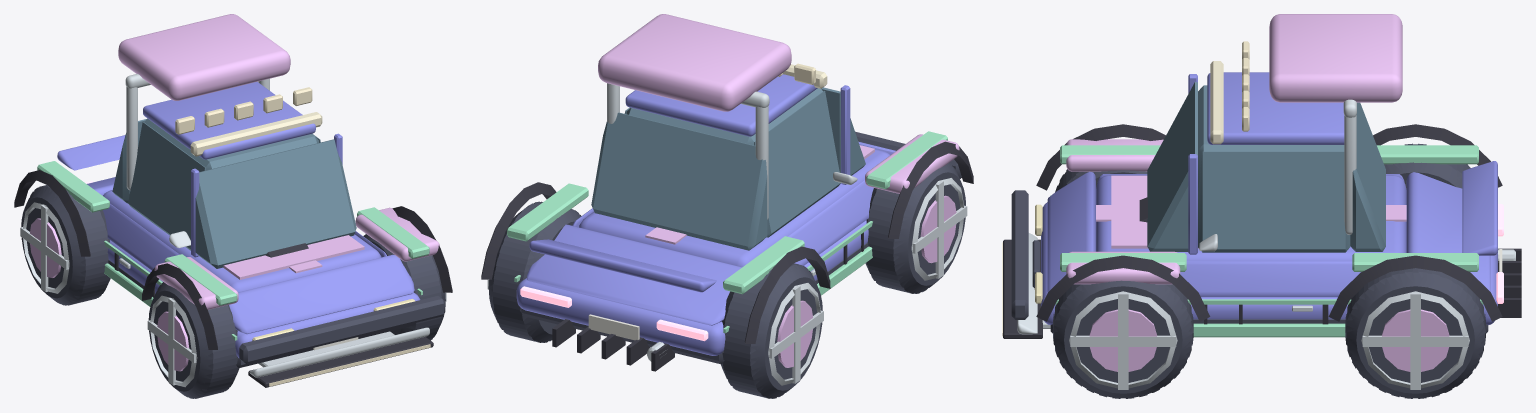
The model's file is wildpath_wagon.fbx.
The picture shows the model from 3 angles, left to right: view 1: azimuth 30°, elevation 25°; view 2: azimuth 150°, elevation 25°; view 3: azimuth 270°, elevation 25°; orthographic projection. The views are drawn at different scales.
Parts seen in each view (by area): view 1: Body, Glass, Accent3, Trim, Wheel_RR, Trim2, Wheel_FR, Metal, Accent, Accent2, Light, Wheel_FL (+2 smaller); view 2: Body, Glass, Accent3, Trim, Wheel_RR, Accent, Wheel_FR, Metal, Wheel_RL, Metal2, Accent2, Trim2 (+3 smaller); view 3: Body, Glass, Accent3, Trim, Wheel_RL, Accent, Wheel_FL, Metal, Metal2, Trim2, Accent2, Wheel_RR (+5 smaller).
Boxes of the visible parts, <box> form: Body: <box>57,81,420,358</box>; Glass: <box>112,118,356,268</box>; Accent3: <box>118,14,439,309</box>; Trim: <box>14,170,452,387</box>; Wheel_RR: <box>21,185,110,305</box>; Trim2: <box>108,260,445,367</box>; Wheel_FR: <box>148,282,239,398</box>; Metal: <box>20,202,446,387</box>; Accent: <box>37,161,429,340</box>; Accent2: <box>125,73,429,377</box>; Light: <box>175,87,430,386</box>; Wheel_FL: <box>363,234,445,340</box>; Body: <box>516,74,895,355</box>; Glass: <box>591,87,865,250</box>; Accent3: <box>598,14,959,193</box>; Trim: <box>481,141,973,371</box>; Wheel_RR: <box>721,263,822,398</box>; Accent: <box>507,131,947,333</box>; Wheel_FR: <box>865,162,965,293</box>; Metal: <box>487,178,967,385</box>; Wheel_RL: <box>488,201,581,342</box>; Metal2: <box>777,195,956,367</box>; Accent2: <box>607,83,857,219</box>; Trim2: <box>520,131,961,364</box>; Body: <box>1041,72,1497,324</box>; Glass: <box>1147,81,1385,252</box>; Accent3: <box>1066,14,1402,284</box>; Trim: <box>1003,124,1521,338</box>; Wheel_RL: <box>1345,268,1485,398</box>; Accent: <box>1050,145,1483,337</box>; Wheel_FL: <box>1053,280,1193,398</box>; Metal: <box>1042,249,1515,389</box>; Metal2: <box>1089,309,1449,371</box>; Trim2: <box>1011,190,1488,333</box>; Accent2: <box>1017,99,1356,334</box>; Wheel_RR: <box>1384,143,1470,189</box>.
Size of the model in its own units: 3.31 by 3.17 by 5.13.
